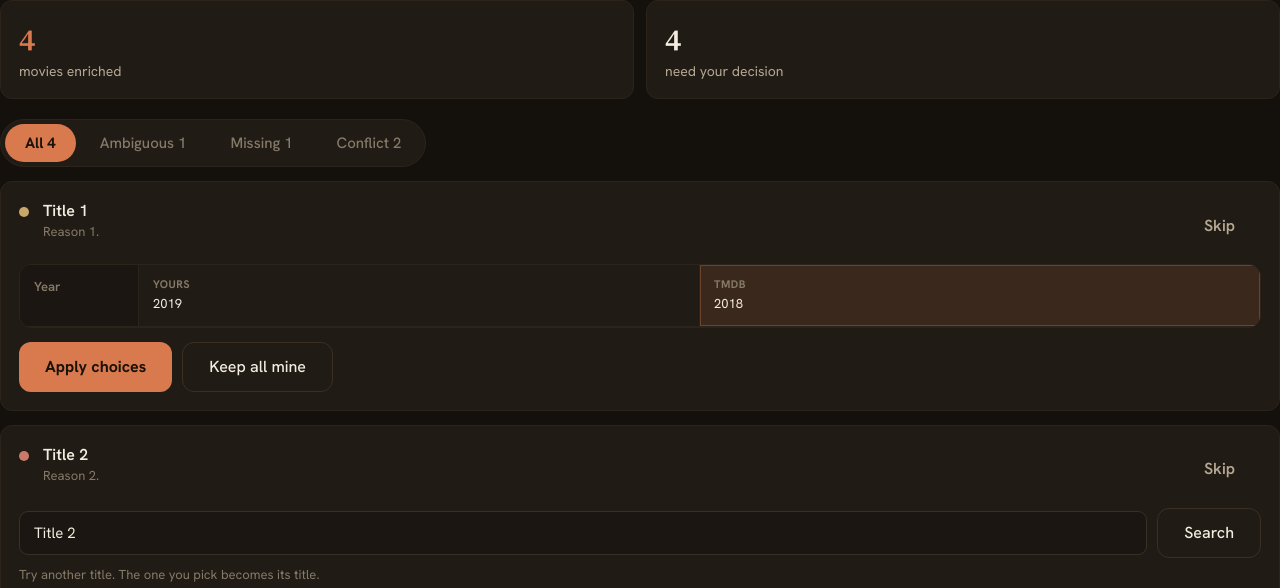
it: EnrichmentReview — the Kind filter › shows only the chosen kind’s Decisions once its pill is pressed
Click the button "Conflict 2": x=369, y=143 [317,124,422,162]
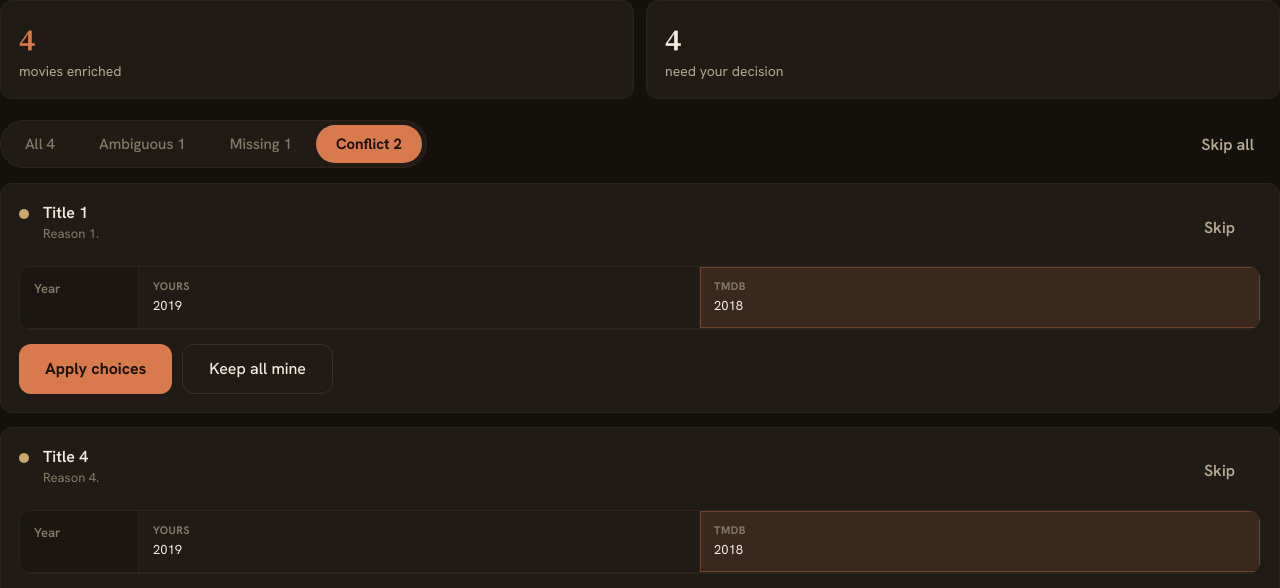
Expected: the text "Reason 1." is shown, [43,225,99,242]
Result: the text "Reason 4." is shown at [43,469,99,486]
Result: the text "Reason 2." is gone
